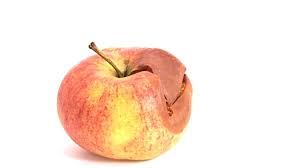damaged_apple: (61, 46, 193, 161)
